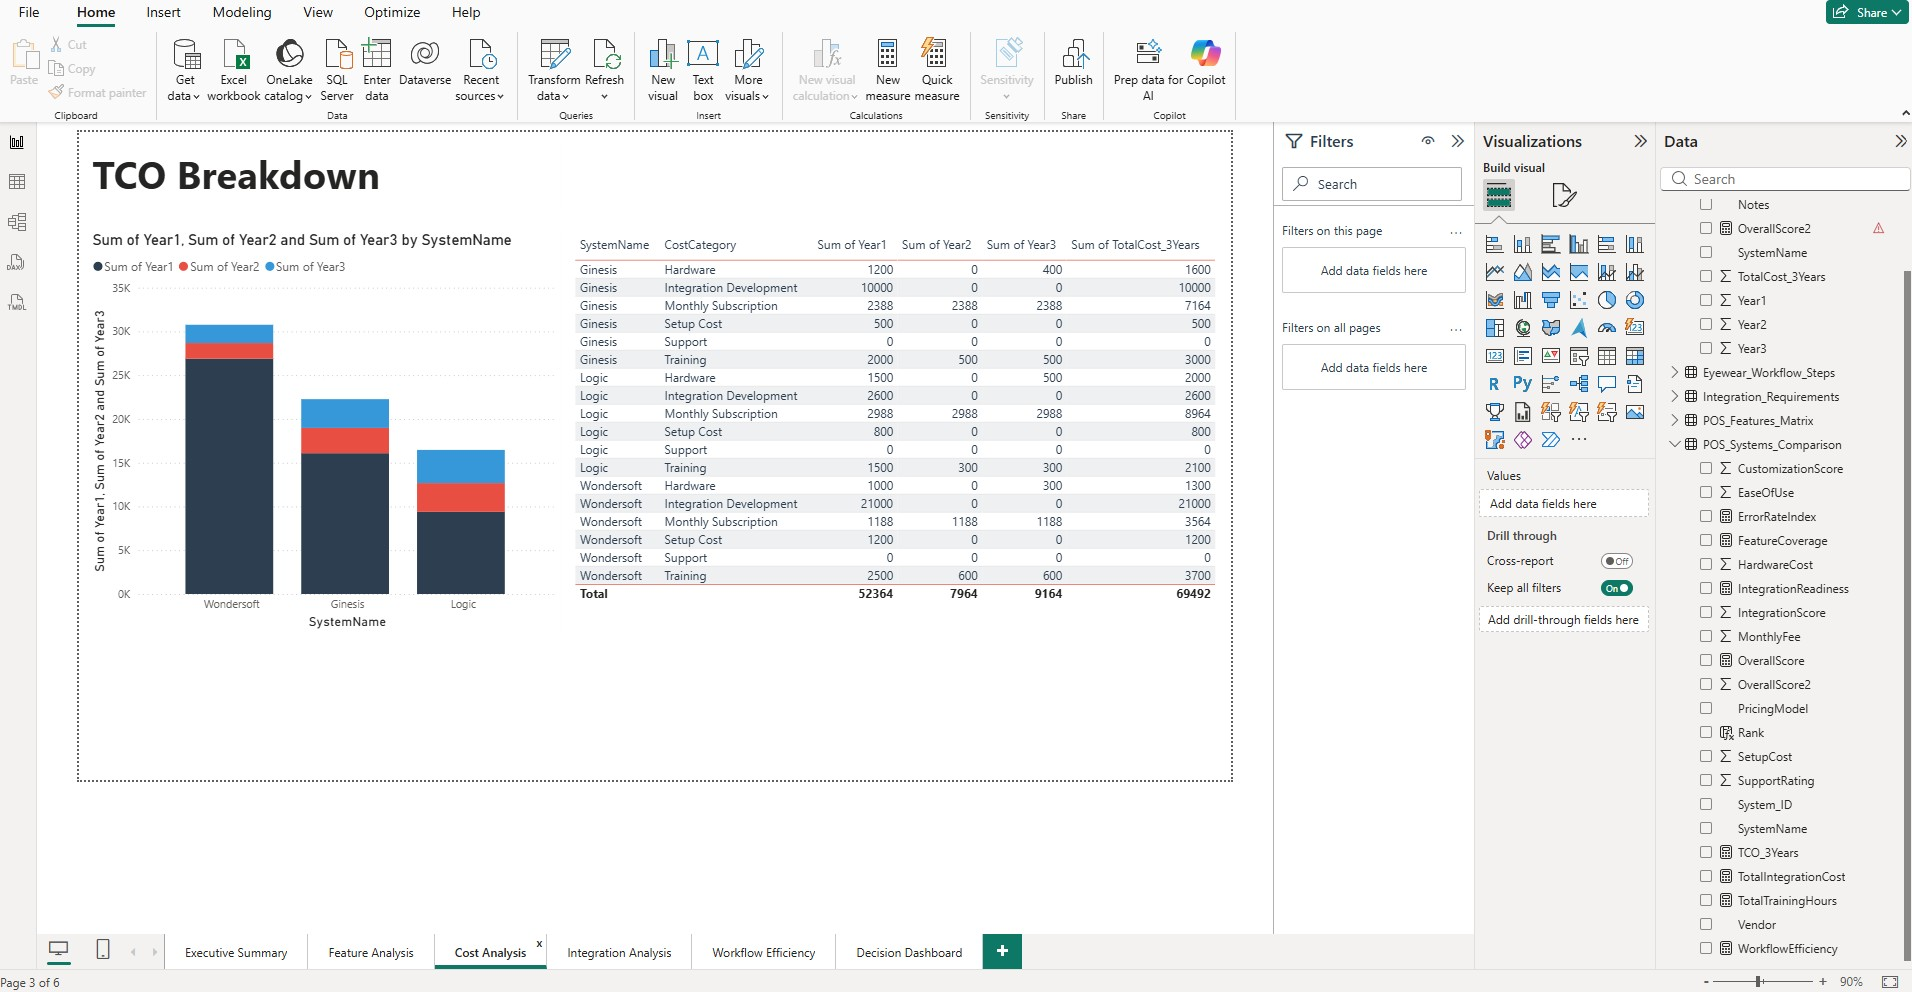

This screenshot's page, from the dashboard's own definition file:
{"tool":"powerbi","page":{"name":"Cost Analysis","canvas":[1280,720],"ordinal":2},"visuals":[{"type":"textbox","box":[10,11.7,525,76.7],"z":0},{"type":"columnChart","fields":{"Category":["Cost_Analysis.SystemName"],"Y":["Sum(Cost_Analysis.Year1)","Sum(Cost_Analysis.Year2)","Sum(Cost_Analysis.Year3)"]},"box":[10,110,525,446.7],"z":1000},{"type":"tableEx","fields":{"Values":["Cost_Analysis.SystemName","Cost_Analysis.CostCategory","Sum(Cost_Analysis.Year1)","Sum(Cost_Analysis.Year2)","Sum(Cost_Analysis.Year3)","Sum(Cost_Analysis.TotalCost_3Years)"]},"box":[545,110,735,456.7],"z":2000}]}

Visuals, with their boxes on the page's 1280x720 design canvas (x1, y1, x2, y2). These are canvas units, not pixel positions in the 1912x992 screenshot, which may show the page scaled, cropped or inside an application window:
textbox: 10, 12, 535, 88
columnChart - Cost_Analysis.SystemName x Sum(Cost_Analysis.Year1): 10, 110, 535, 557
tableEx - Cost_Analysis.SystemName x Cost_Analysis.CostCategory: 545, 110, 1280, 567
